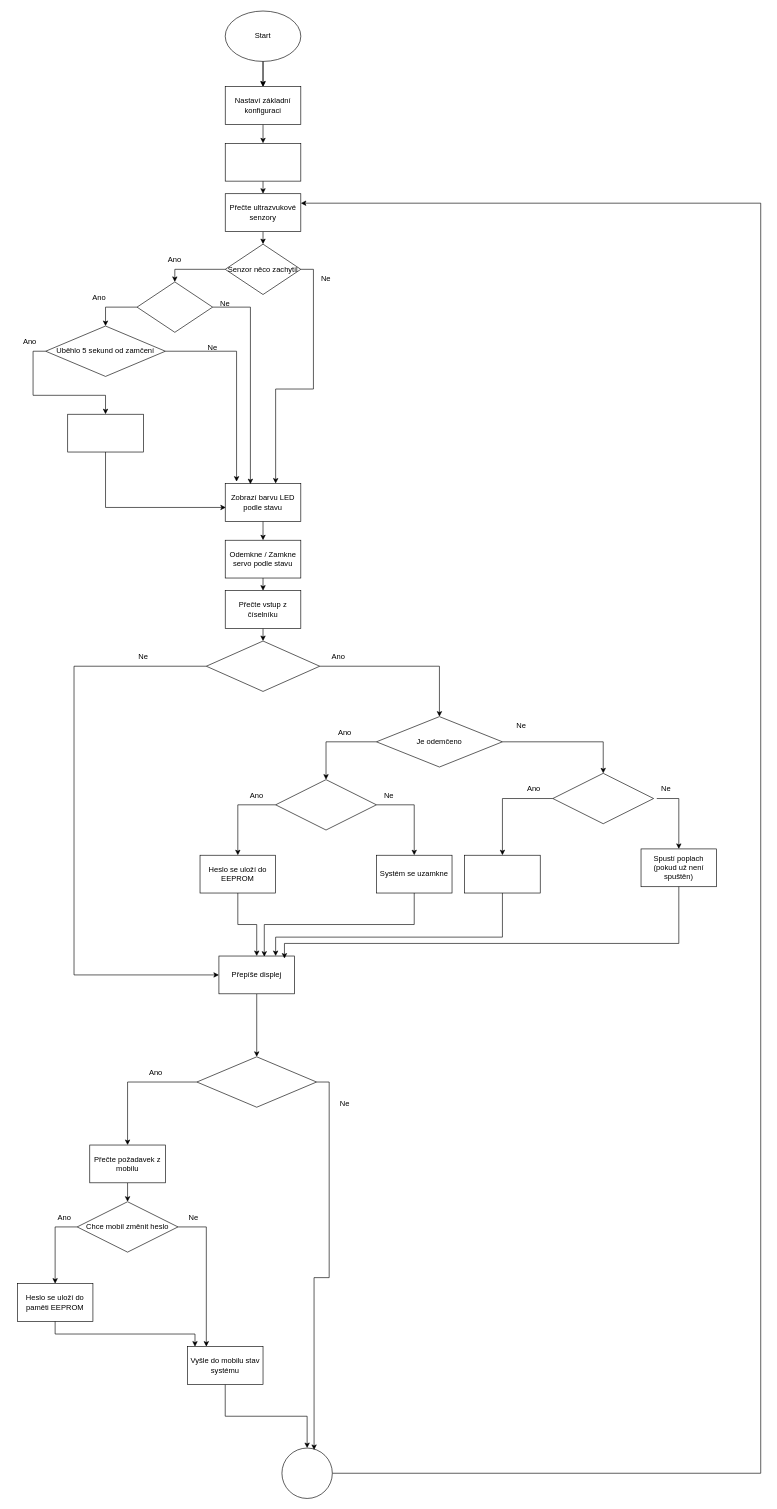
The diagram is 777 pixels wide and 1509 high, and some of its shapes have lost their labels. Here are the shapes that lost their labels. From the top down, the box of each, then its label:
(225, 143, 301, 181): Načte heslo z paměti EEPROM
(136, 281, 213, 332): Systém je zamčen
(67, 414, 143, 452): Spustí poplach
(206, 640, 320, 691): Bylo stisknuto "Potvrdit"
(275, 779, 376, 830): Mění se heslo
(552, 773, 654, 824): Heslo je správně
(464, 855, 540, 893): Odemkne systém
(196, 1056, 317, 1107): Pokud je připojeno zařízení
